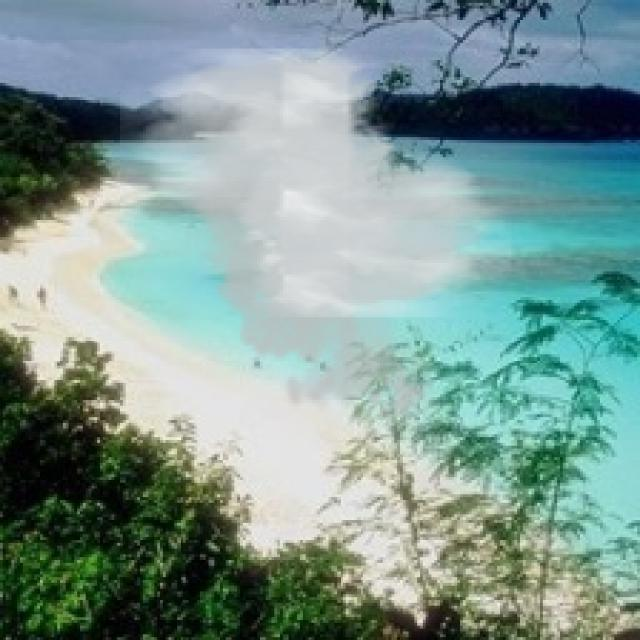Smoke: (120, 49, 512, 432)
